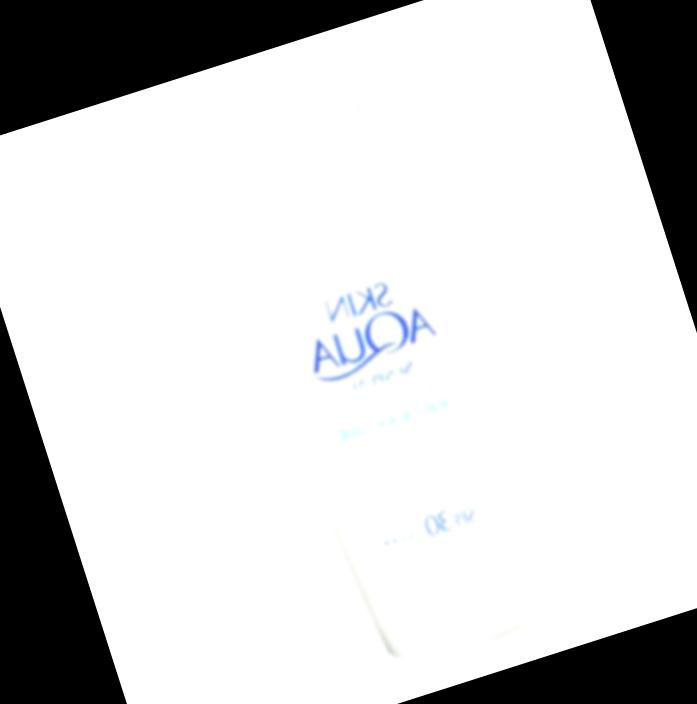cosmetic: (203, 65, 553, 660)
